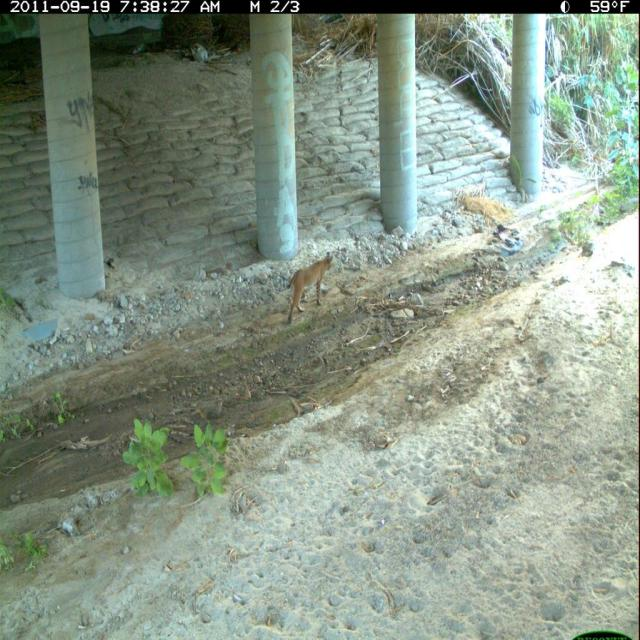bobcat: (283, 247, 337, 332)
